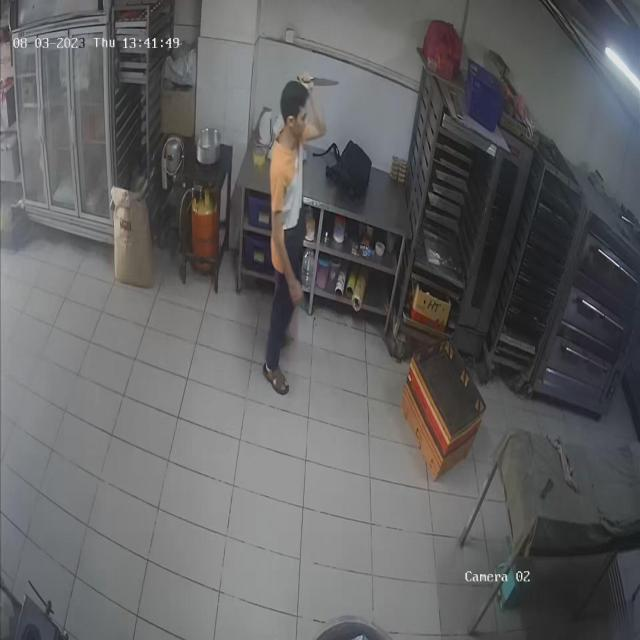Knife: (302, 71, 343, 97)
